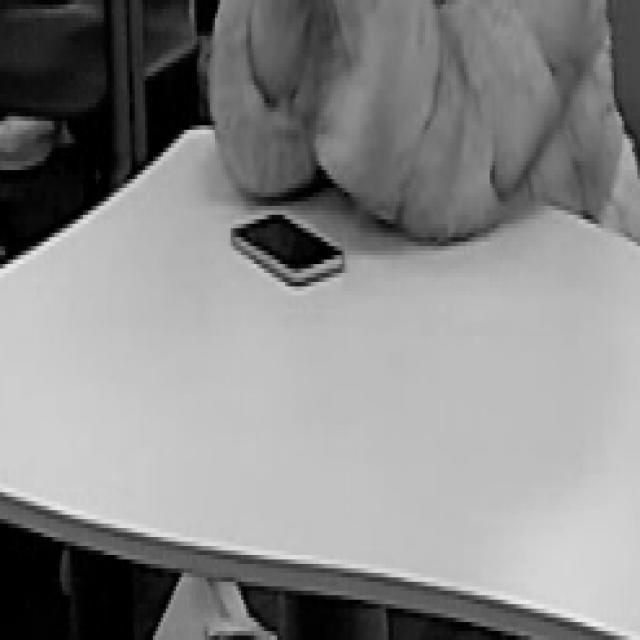fake: (212, 180, 370, 330)
